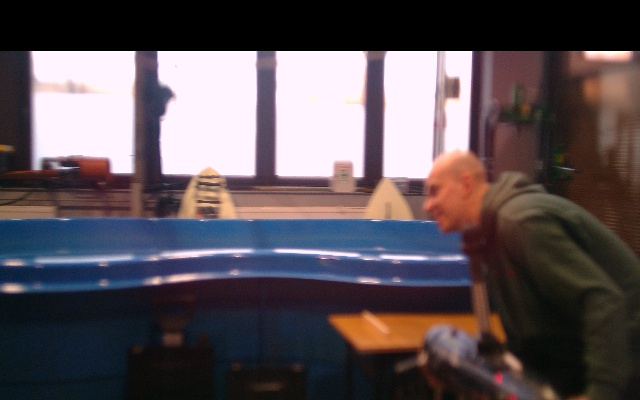black: (468, 277, 496, 343)
